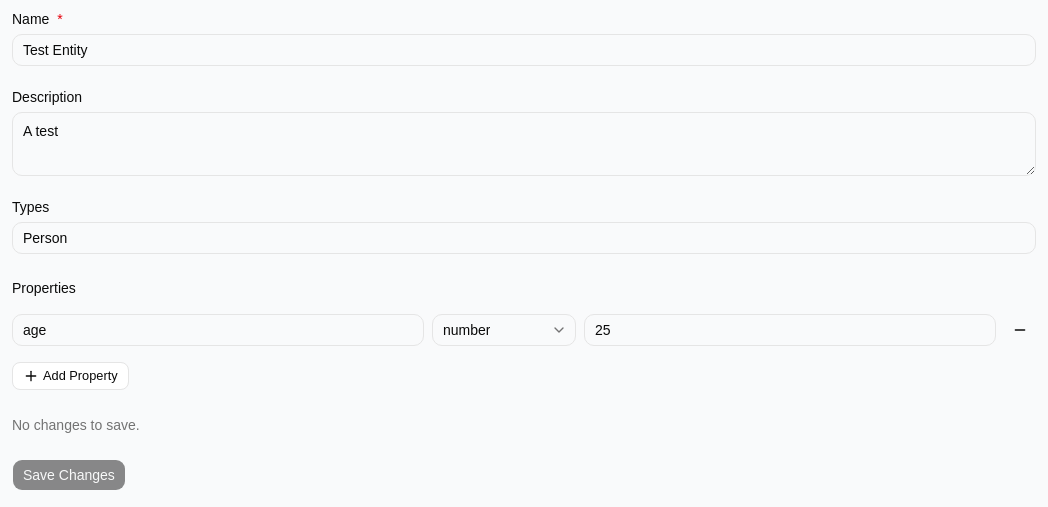
Test: EntityForm › edit mode › enables submit when name changes
Type "X" into the field with test id "entity-name-input" at (524, 50), box [12,34,1036,66]
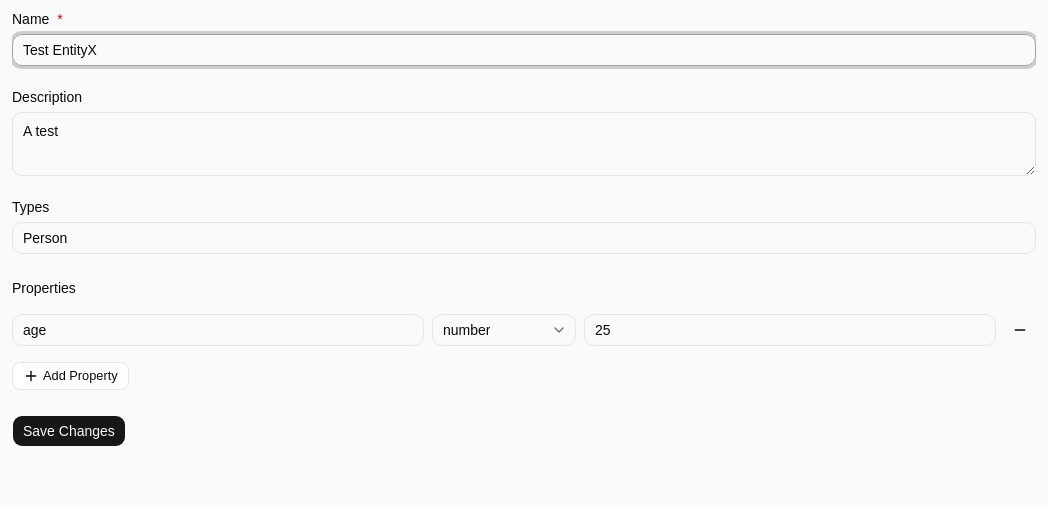
Expected: the button with test id "entity-submit" is enabled, [12,415,126,447]
Expected: the text with test id "no-changes-message" is gone
